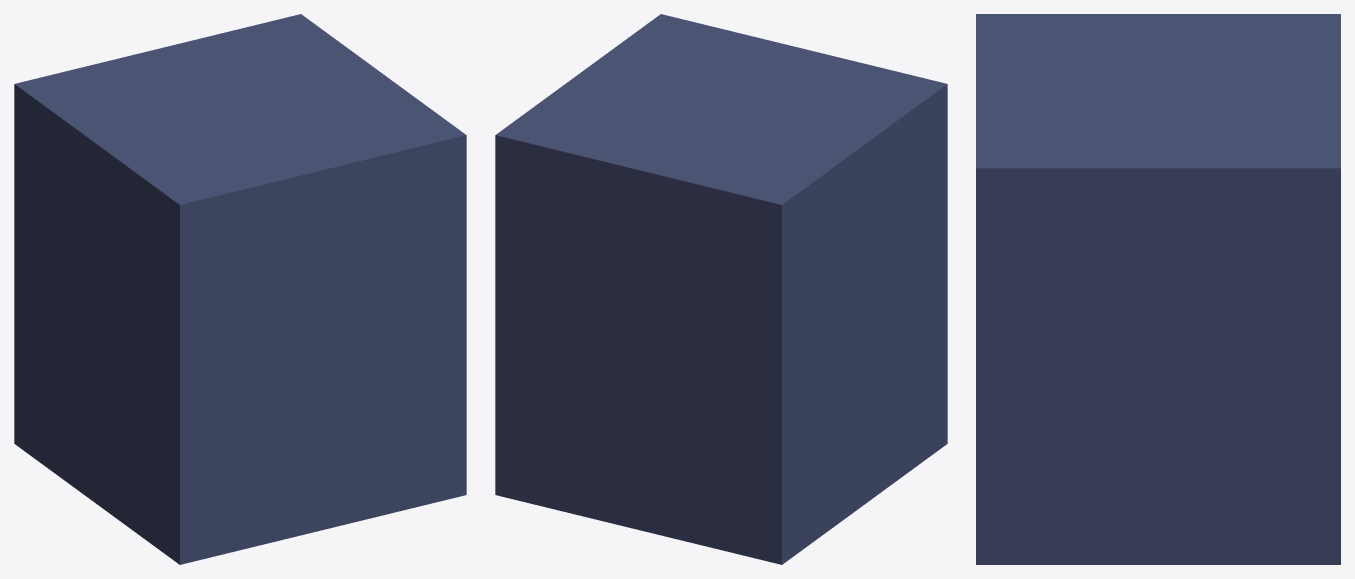
Rendered from ninja_coxa.glb.
3 renders of one model, left to right at view 1: azimuth 30°, elevation 25°; view 2: azimuth 150°, elevation 25°; view 3: azimuth 270°, elevation 25°, orthographic. The views are drawn at different scales.
Visible parts, largest first — view 1: ninja_coxa; view 2: ninja_coxa; view 3: ninja_coxa.
Boxes of the visible parts, left/top/right/bottom form: ninja_coxa: left=14, top=14, right=466, bottom=564; ninja_coxa: left=495, top=14, right=947, bottom=564; ninja_coxa: left=976, top=14, right=1340, bottom=564.
Bounding box in the file's own units: 0.3 × 0.36 × 0.3.
